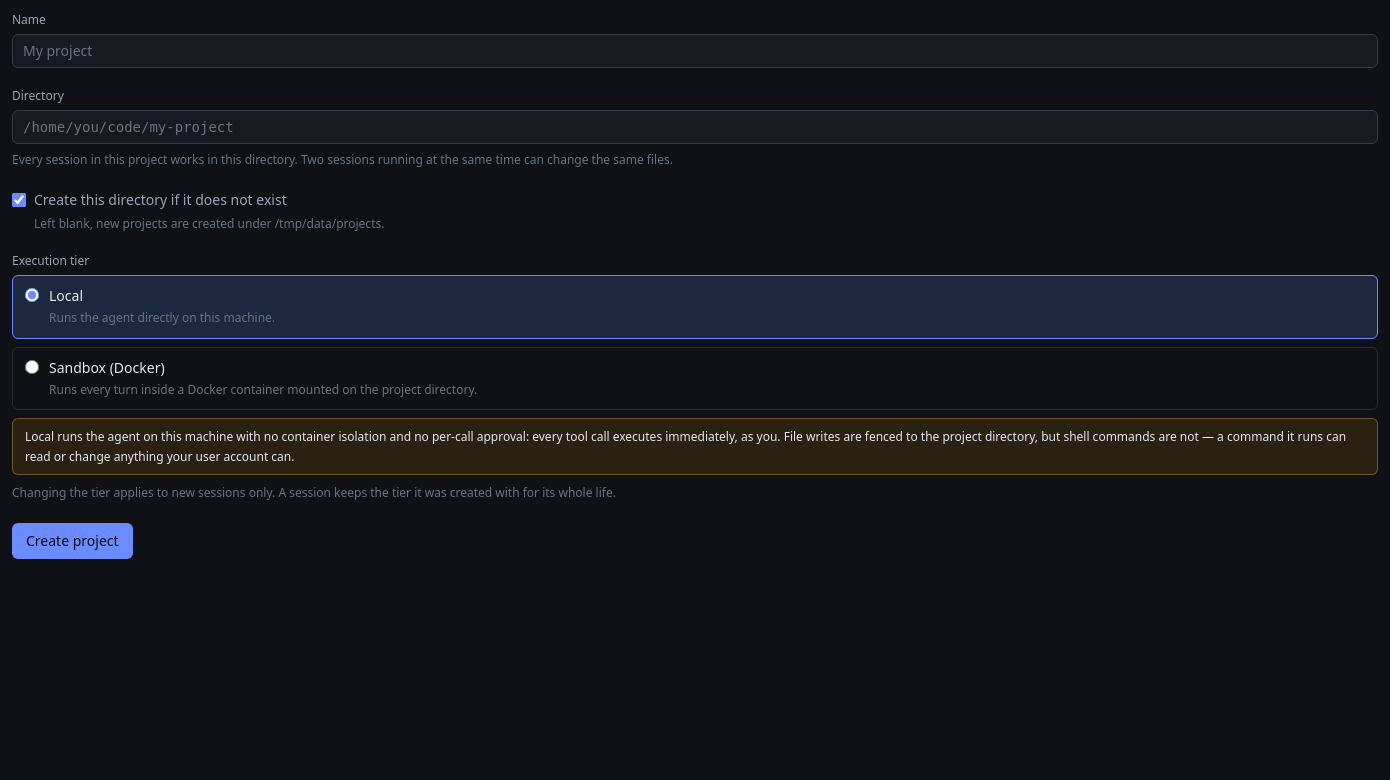
creating a project › rejects a ~ path, which the backend does not expand
Type "Demo" into the field labelled "Name" at x=695, y=51, box top-left (12, 34), bottom-right (1378, 68)
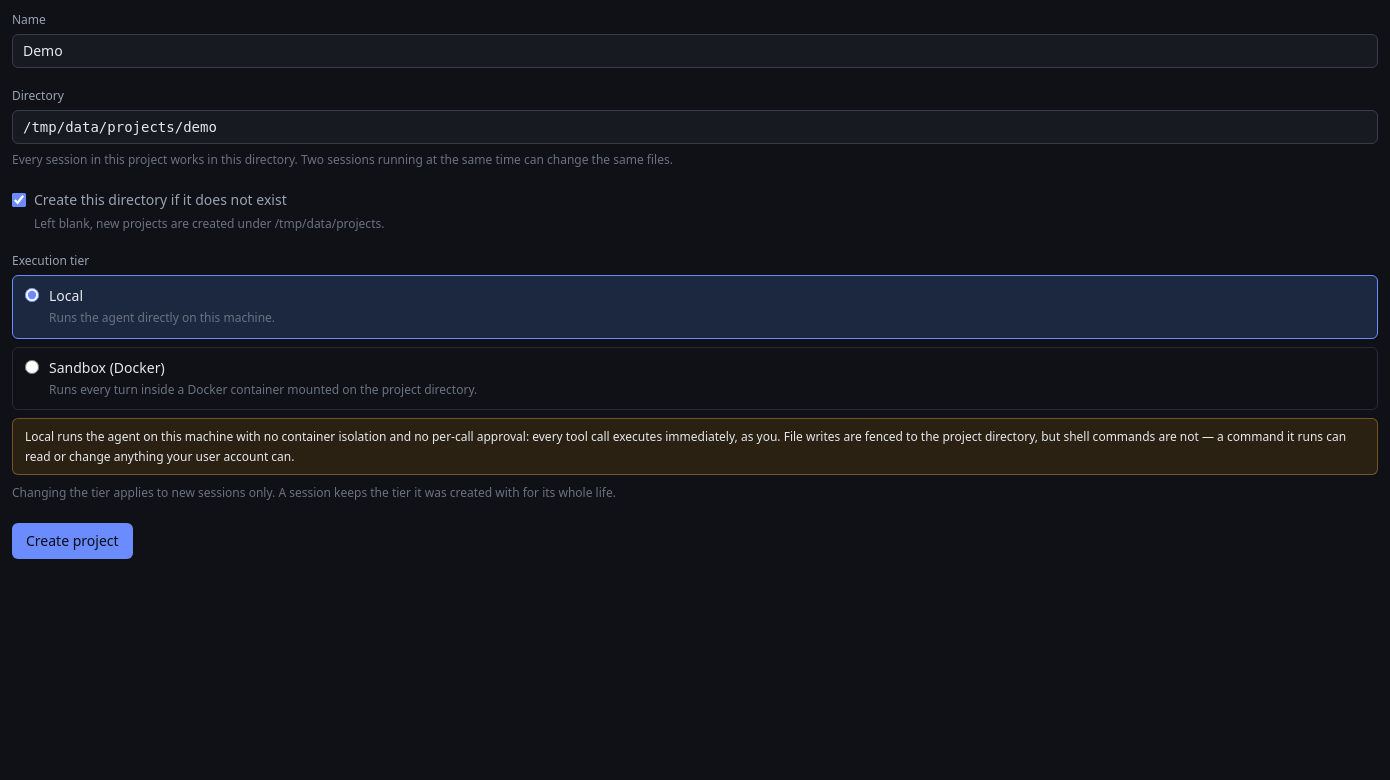
Replace the text in the field labelled "Directory" with "~/code/demo" at x=695, y=127, box top-left (12, 110), bottom-right (1378, 144)
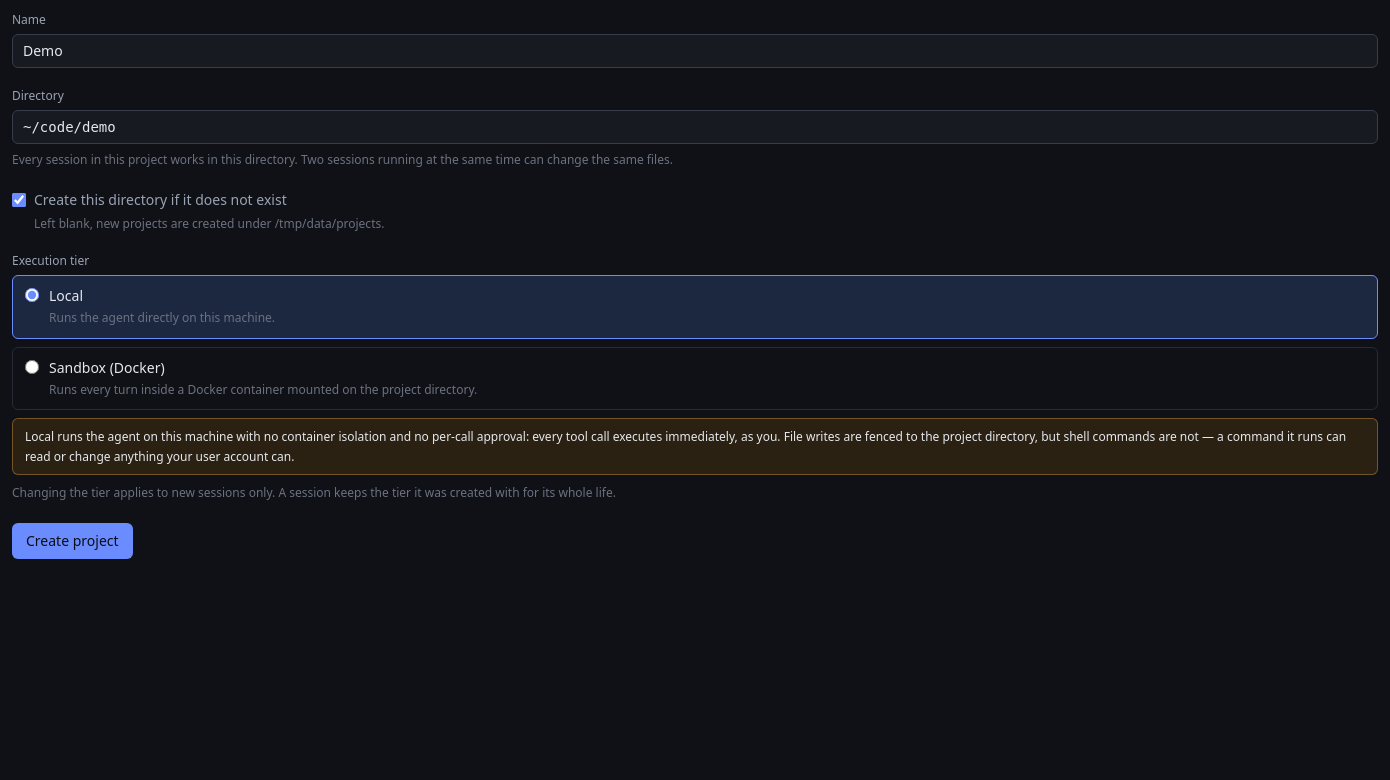
Click the button "Create project" at x=72, y=540, box top-left (12, 522), bottom-right (133, 558)
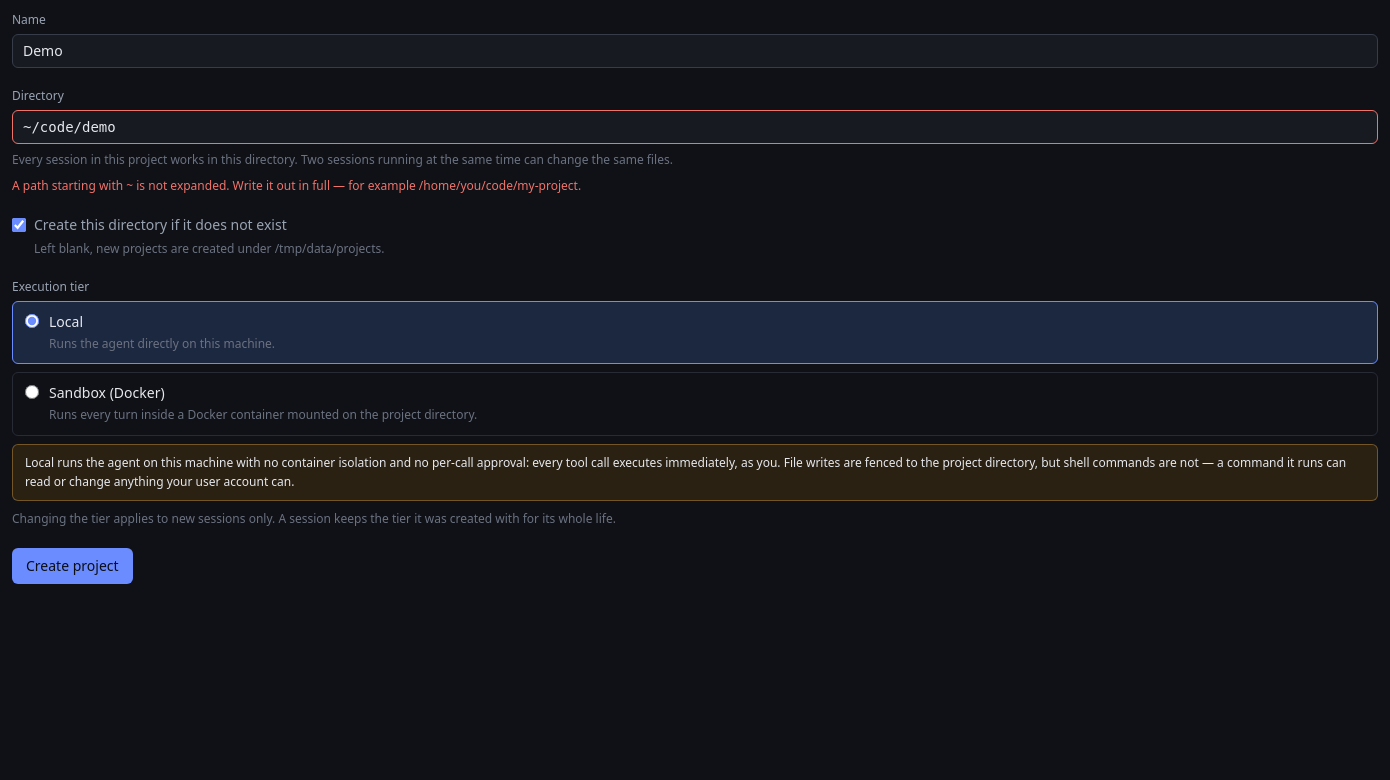
Check: the message shows "~", box top-left (12, 176), bottom-right (581, 194)
